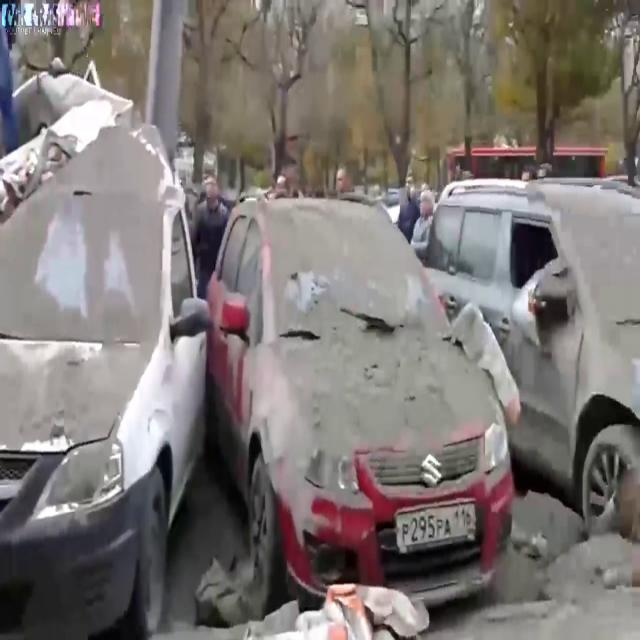Accident: (232, 175, 533, 623), (0, 0, 179, 329)
